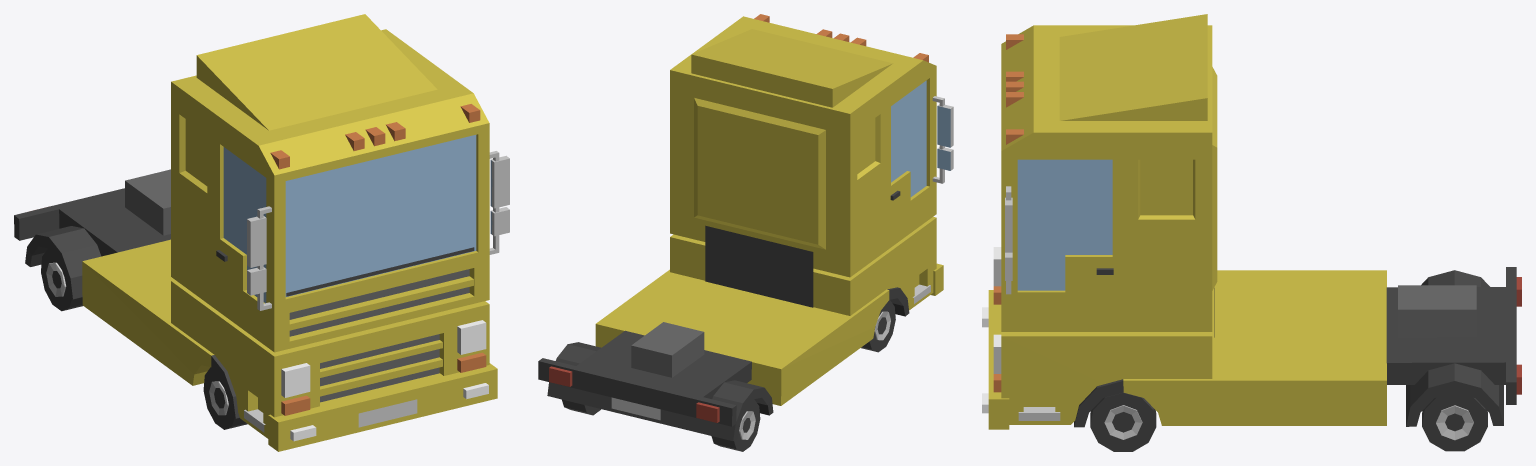
Rendered from transport_truck_006.fbx.
The picture shows the model from 3 angles, left to right: view 1: azimuth 30°, elevation 25°; view 2: azimuth 150°, elevation 25°; view 3: azimuth 270°, elevation 25°; orthographic projection. The views are drawn at different scales.
Parts seen in each view (by area): view 1: transport_truck_006; view 2: transport_truck_006; view 3: transport_truck_006.
Part boxes in pixels (x1,y1,x2,y2): transport_truck_006: [14, 14, 509, 451]; transport_truck_006: [538, 14, 953, 451]; transport_truck_006: [982, 14, 1521, 451].
Size of the model in its own units: 209 by 259 by 368.
